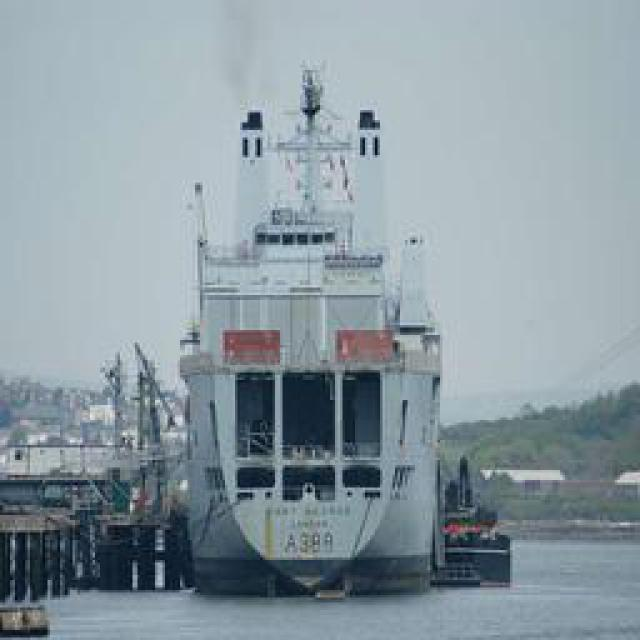Ship: (160, 90, 452, 604)
